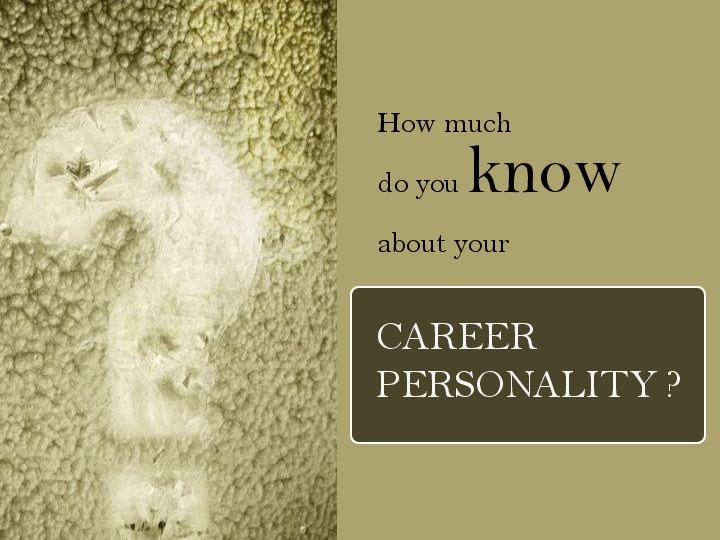title: (365, 311, 690, 423)
